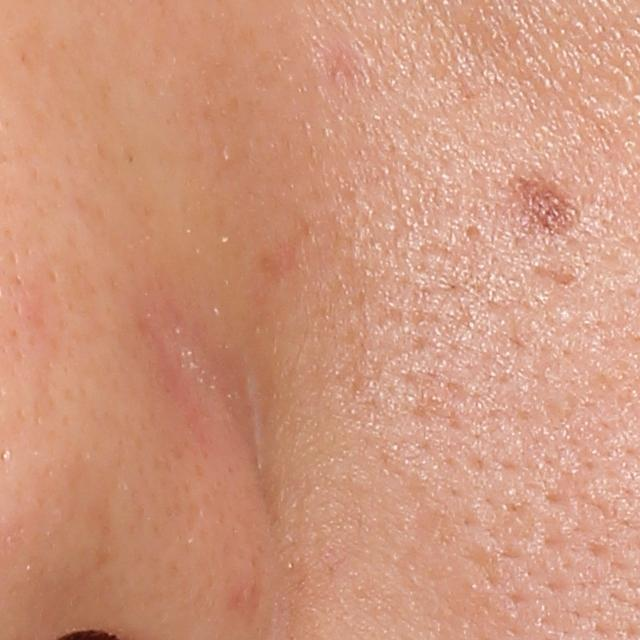comedo: (458, 221, 486, 251)
nevus: (509, 175, 580, 234)
